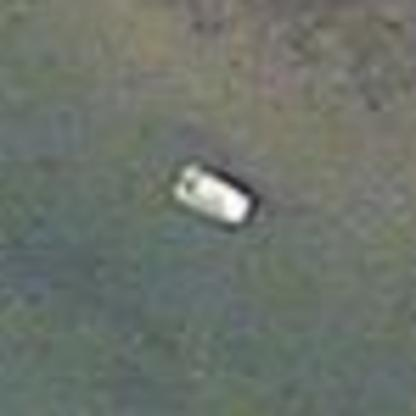ship: (156, 150, 265, 238)
